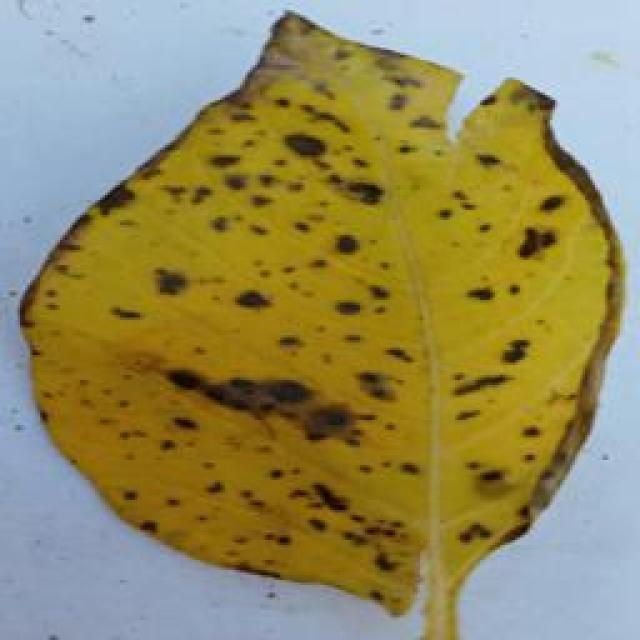Potato_Early_Blight: (19, 25, 635, 631)
